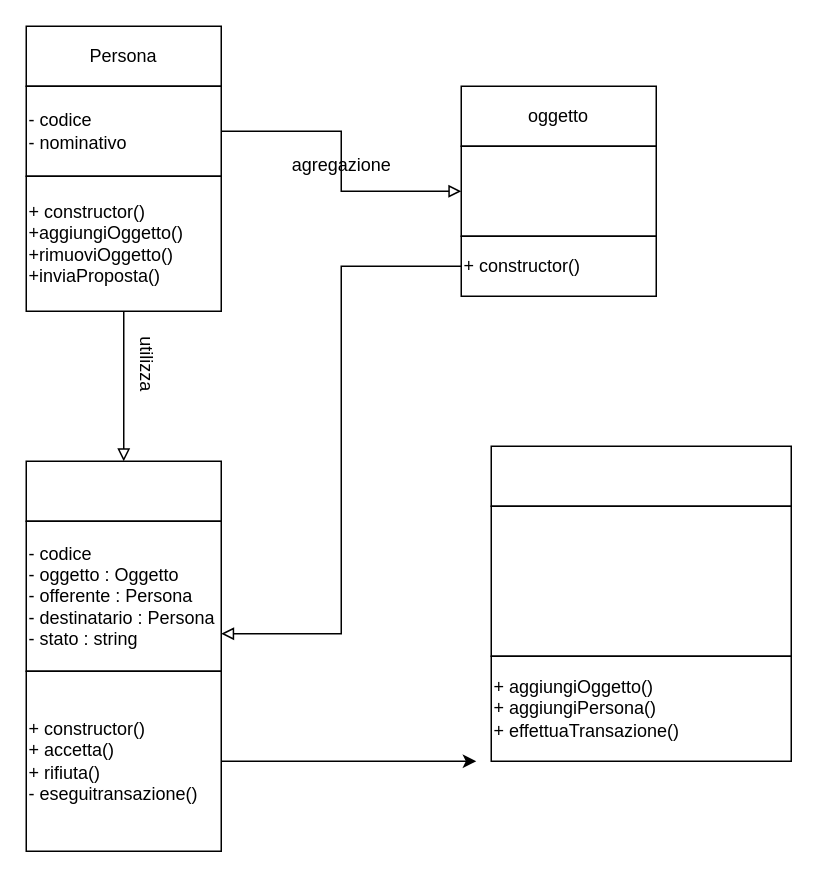
The diagram is 818 pixels wide and 878 high, and some of its shapes have lost their labels. Here are the shapes that lost their labels. From the top down, the centre of each, then its label:
At point 558,190: "- codice - nome - proprietario".
At point 123,490: "Proposta".
At point 640,475: "Transazione".
At point 640,580: "- codice - oggetto: oggetto - acquirente : Persona".
